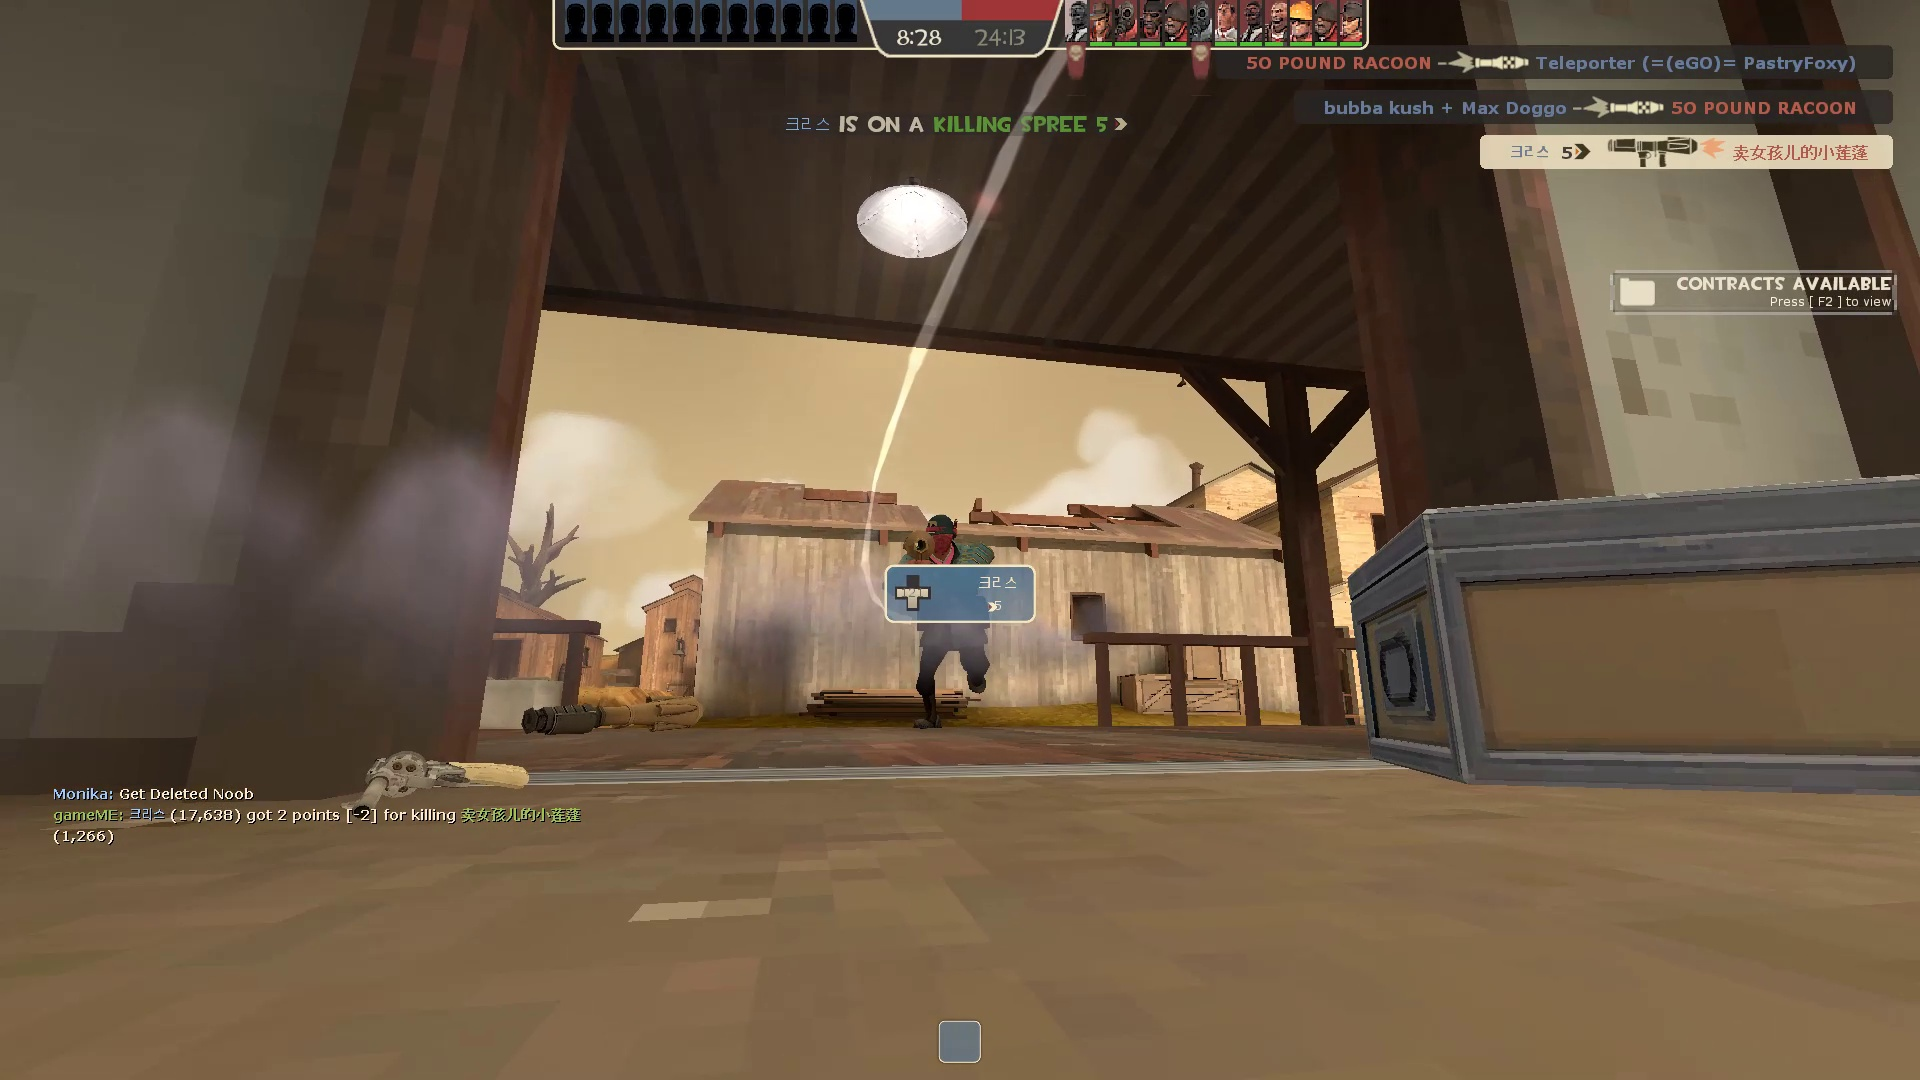blu_soldier: (884, 505, 1005, 735)
